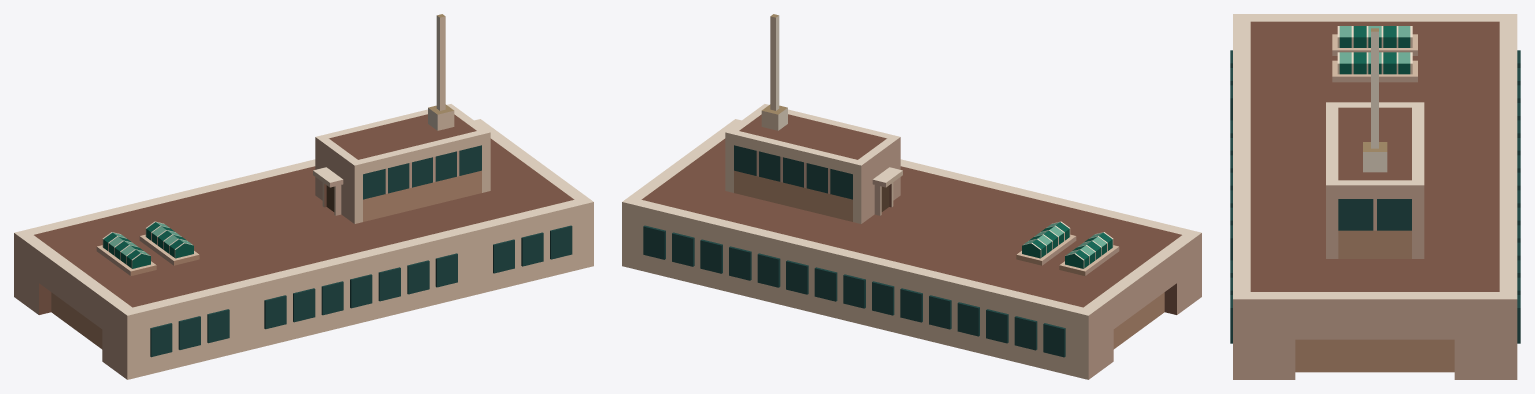
File: TB_CITY_Skysc_J_Top_Brown.FBX
3 renders of one model, left to right at view 1: azimuth 30°, elevation 25°; view 2: azimuth 150°, elevation 25°; view 3: azimuth 270°, elevation 25°, orthographic. The views are drawn at different scales.
Visible parts, largest first — view 1: TB_CITY_Skysc_J_Top_Brown; view 2: TB_CITY_Skysc_J_Top_Brown; view 3: TB_CITY_Skysc_J_Top_Brown.
Boxes of the visible parts, bbox=[...] form: TB_CITY_Skysc_J_Top_Brown: bbox=[14, 14, 593, 379]; TB_CITY_Skysc_J_Top_Brown: bbox=[622, 14, 1201, 379]; TB_CITY_Skysc_J_Top_Brown: bbox=[1230, 14, 1520, 379].
Size of the model in its own units: 38 by 18.08 by 16.35.
